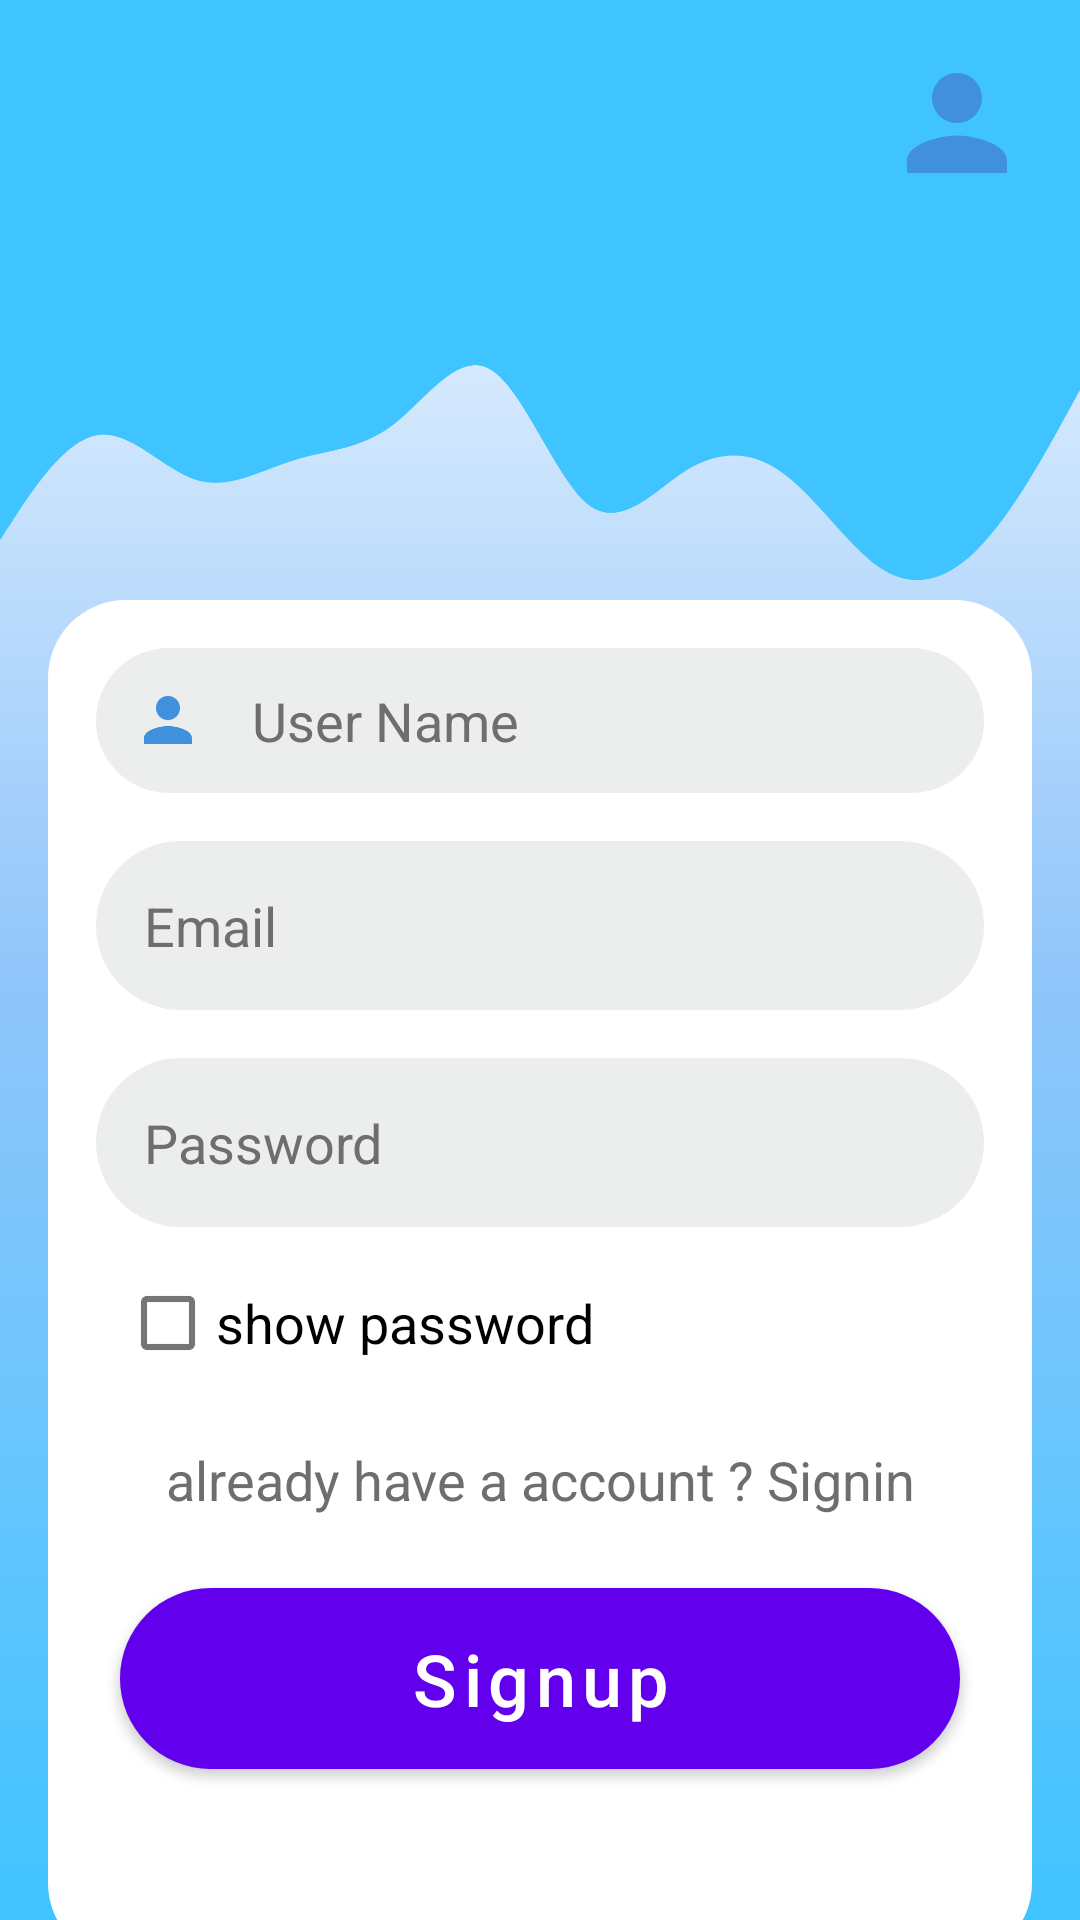

Icons on this 1080×1920 Android screen, each with its box as (x1, y1, x2, y2):
person: (907, 73, 1007, 173)
